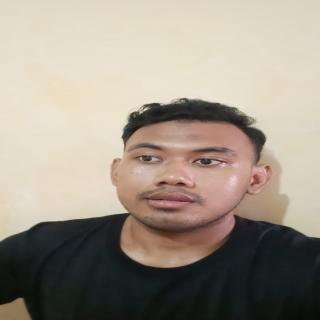Takut: (111, 118, 262, 234)
